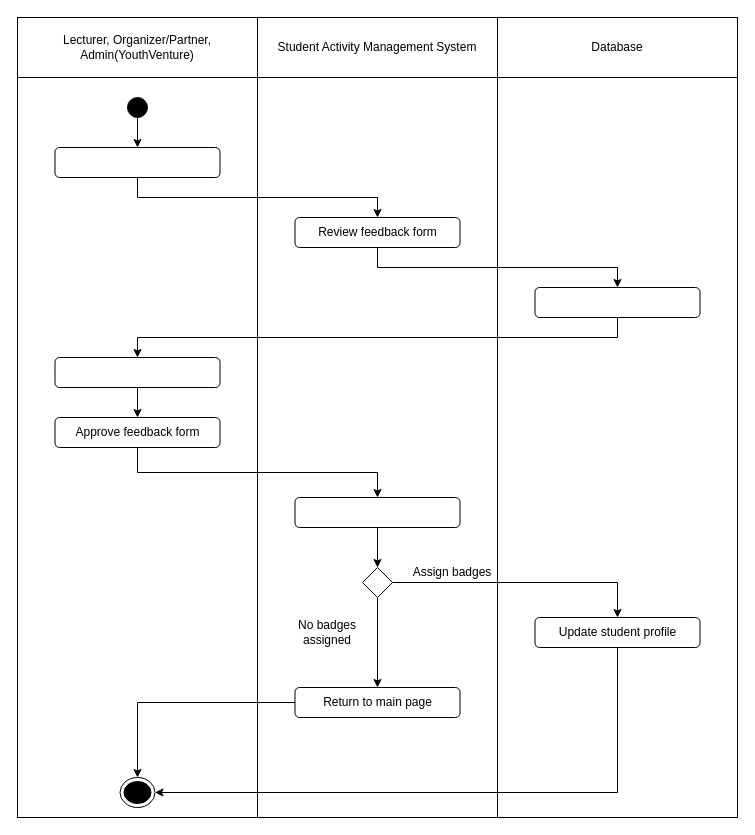
This 755x835 diagram has some shape labels left out. Here are the shapes that lost their labels. From the top down, the centre of each, then its label:
At [137,162]: "Login".
At [617,302]: "Retrieve feedback form".
At [137,372]: "Display display feedback form".
At [377,512]: "Assign badges page".
